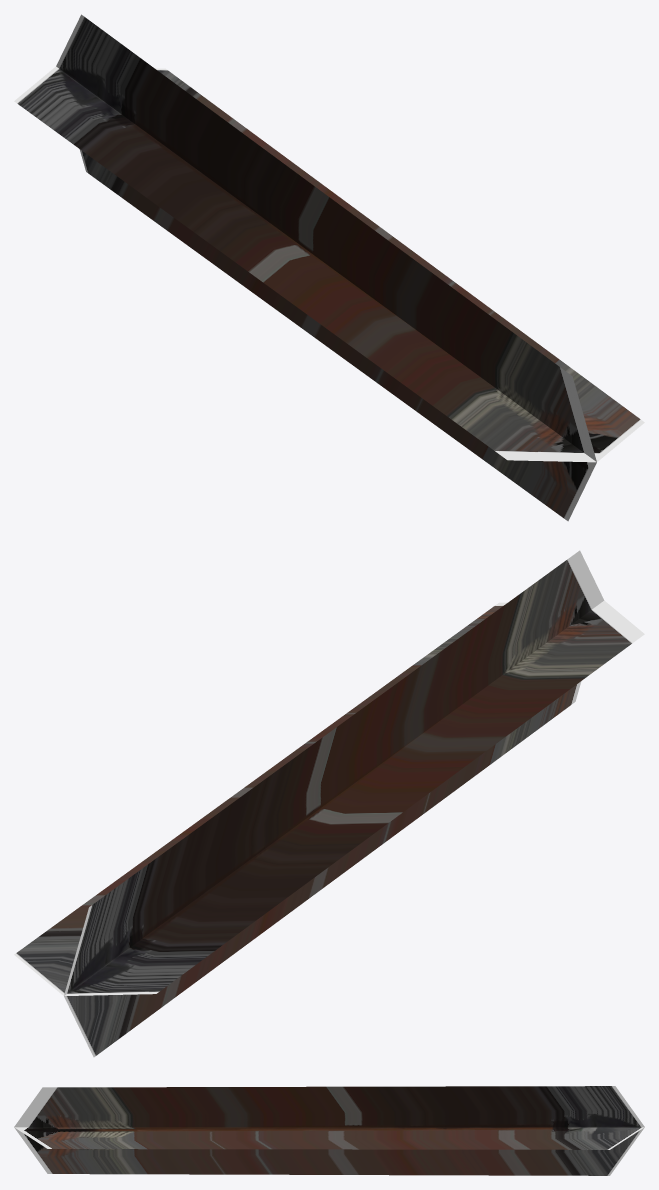
File: Arrow_Alone (1).FBX
The picture shows the model from 3 angles, top to bottom: view 1: azimuth 30°, elevation 25°; view 2: azimuth 150°, elevation 25°; view 3: azimuth 270°, elevation 25°; orthographic projection. The views are drawn at different scales.
Parts seen in each view (by area): view 1: Arrow; view 2: Arrow; view 3: Arrow.
Boxes of the visible parts, x1,y1,x2,y2 form: Arrow: (14, 14, 644, 521); Arrow: (14, 550, 644, 1057); Arrow: (14, 1086, 644, 1175).
Bounding box in the file's own units: 0.2105 × 0.2105 × 1.34.
